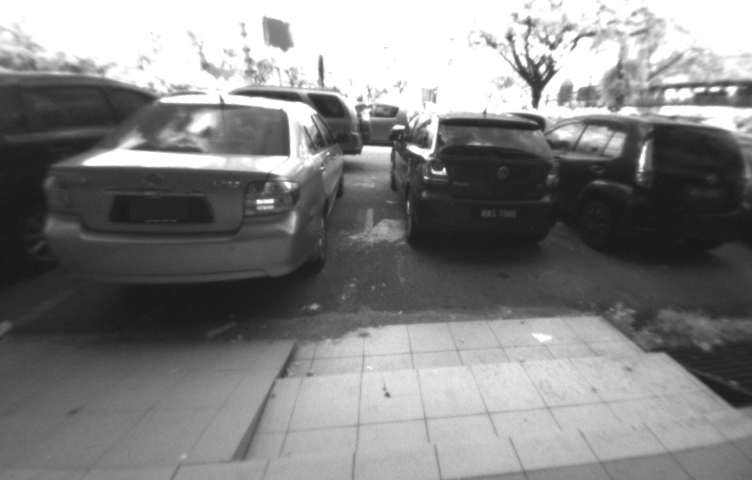down_steps: (242, 313, 719, 468)
mixed_gradient: (178, 329, 341, 478)
uncovered_drainage: (644, 317, 752, 424)
